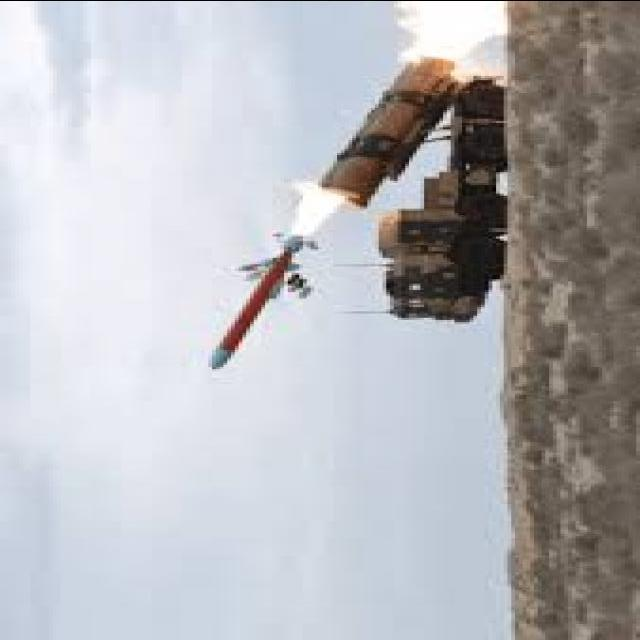missile: (206, 223, 323, 373)
